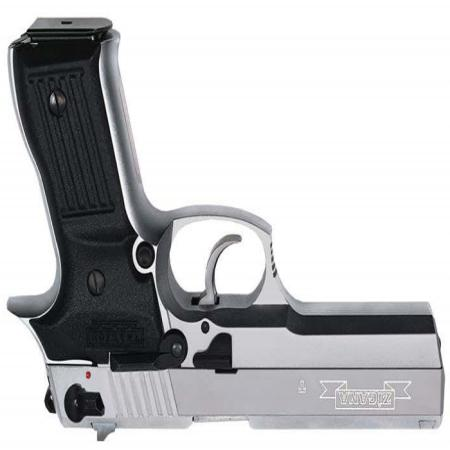Pistol: (9, 18, 446, 444)
